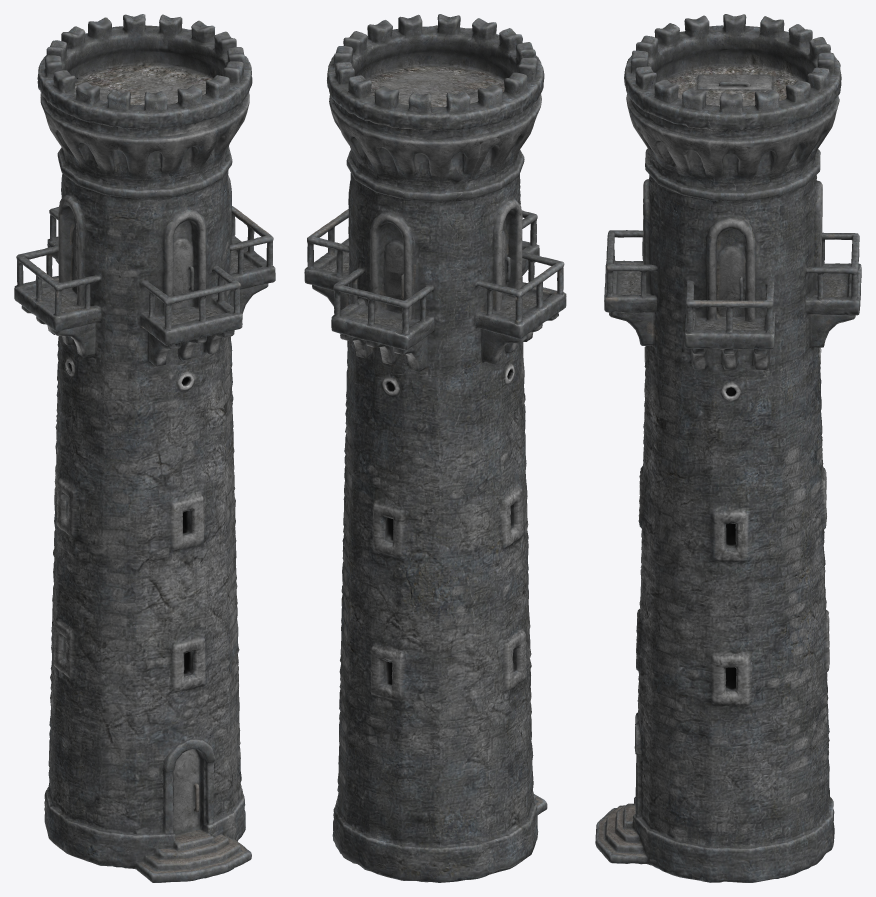
Rendered from Medieval tower_High_Poly_2.fbx.
The picture shows the model from 3 angles, left to right: view 1: azimuth 30°, elevation 25°; view 2: azimuth 150°, elevation 25°; view 3: azimuth 270°, elevation 25°; orthographic projection.
Visible parts, largest first — view 1: Medieval tower_High_2; view 2: Medieval tower_High_2; view 3: Medieval tower_High_2.
Part boxes in pixels (x1,y1,x2,y2): Medieval tower_High_2: (14,14,275,882); Medieval tower_High_2: (304,14,566,882); Medieval tower_High_2: (595,14,861,882).
Bounding box in the file's own units: 717 × 741 × 2415.
